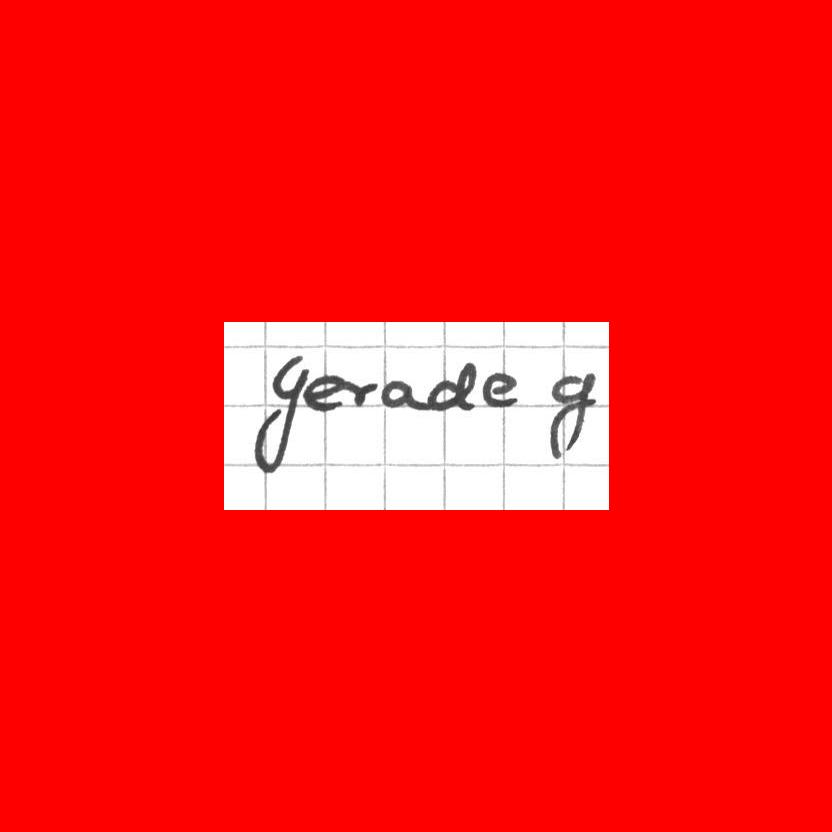Char: (247, 352, 309, 478), (544, 369, 599, 463), (423, 359, 480, 413), (300, 370, 345, 414), (479, 370, 523, 410), (381, 377, 425, 412), (341, 375, 378, 409)
